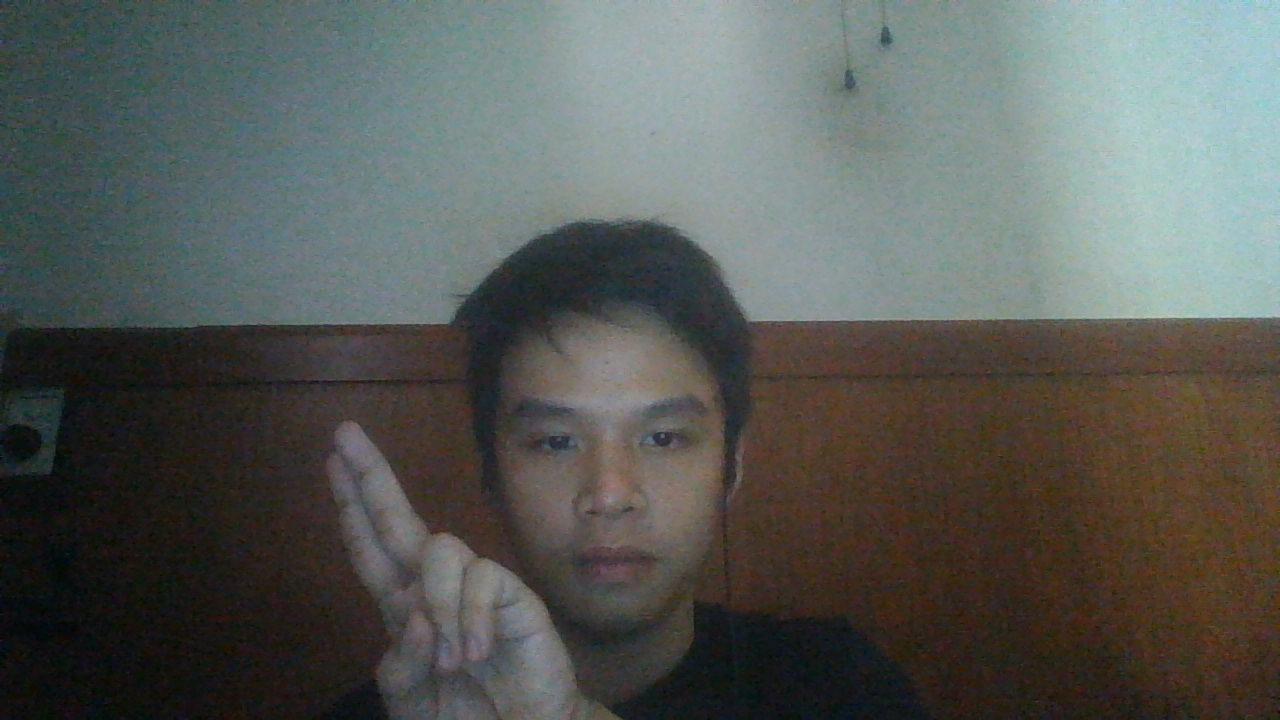write1: (316, 420, 580, 720)
